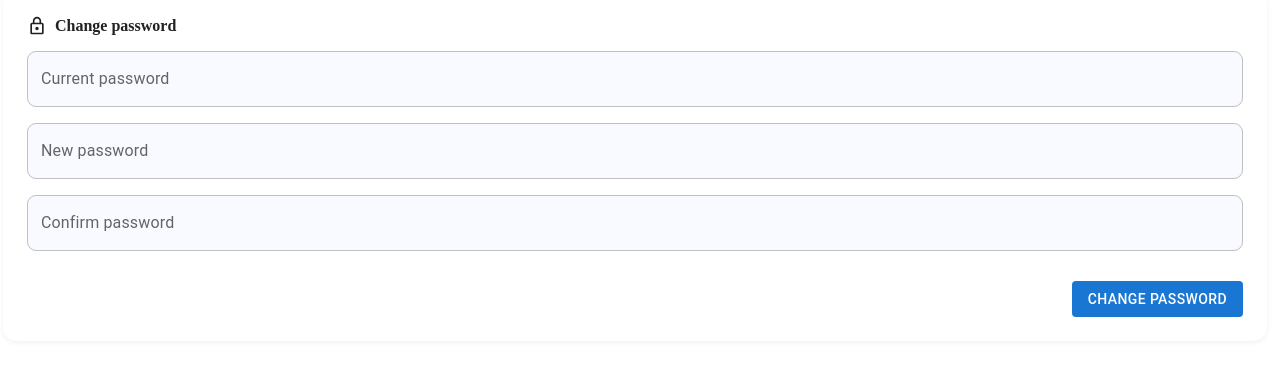
Scenario: ChangePasswordForm › should prevent submission when the confirmation password does not match
Type "old-password" into the password field labelled "Current password".
click(635, 79); type("old-password")  # box [27,51,1243,107]
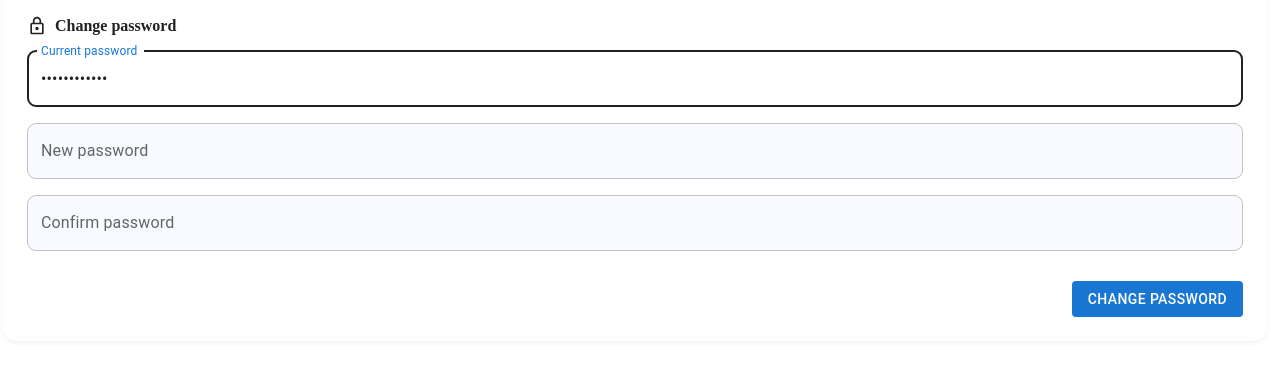
Type "new-password-123" into the password field labelled "New password".
click(635, 151); type("new-password-123")  # box [27,123,1243,179]
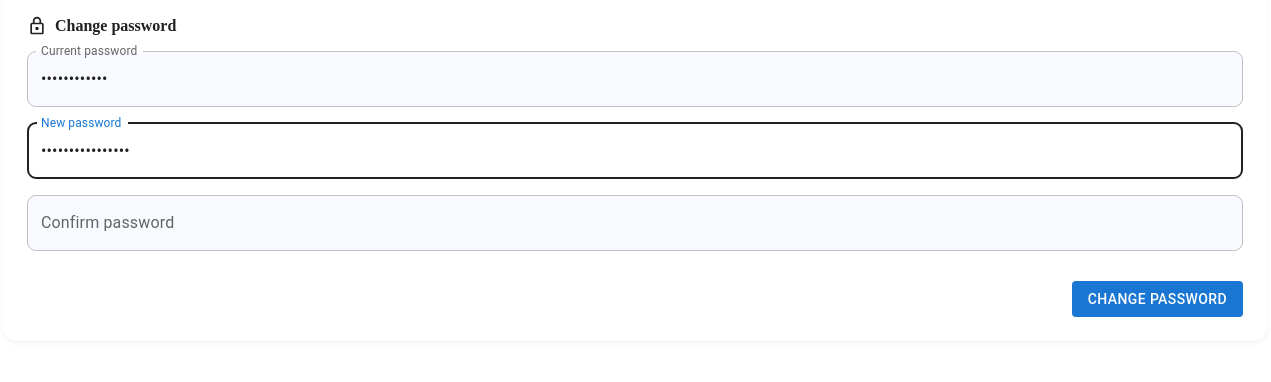
Type "other-password-123" into the password field labelled "Confirm password".
click(635, 223); type("other-password-123")  # box [27,195,1243,251]
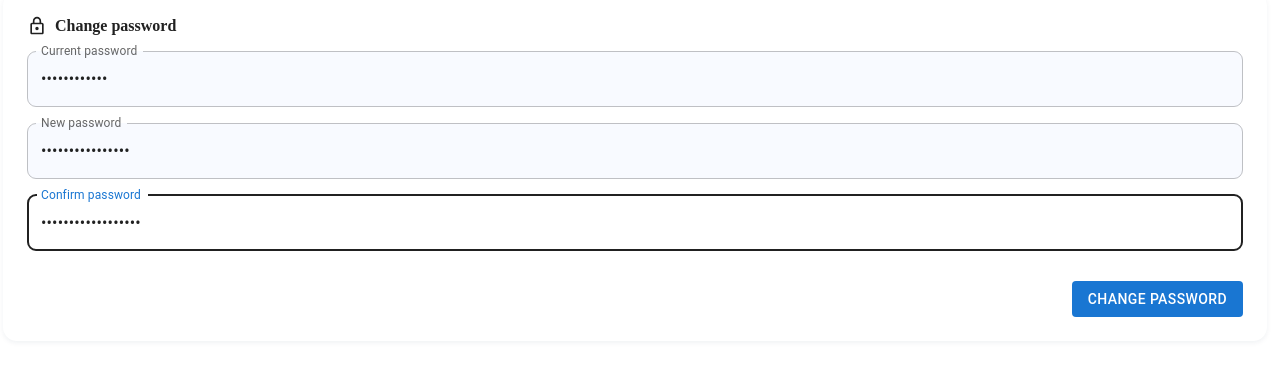
Click the button "Change password".
click(1157, 299)  # box [1072,281,1243,317]
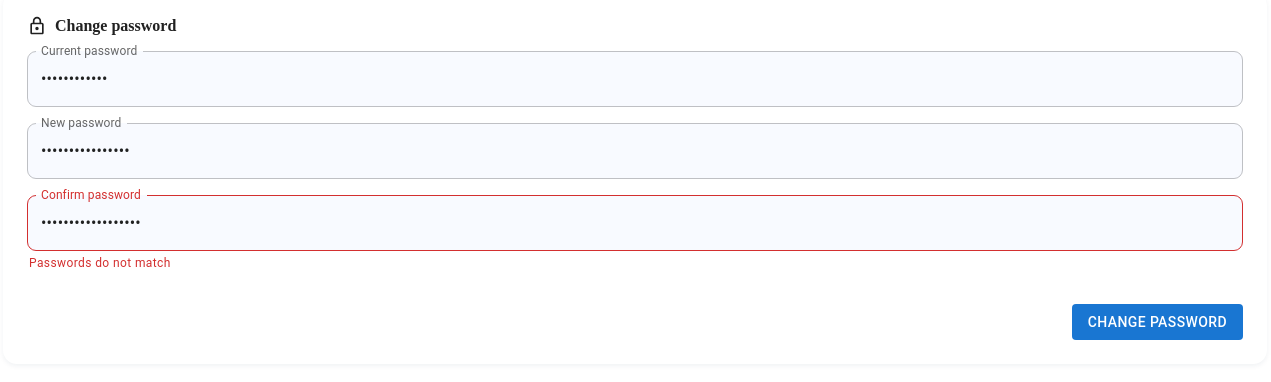
Now the text "Passwords do not match" is shown, box [29,256,171,270]
